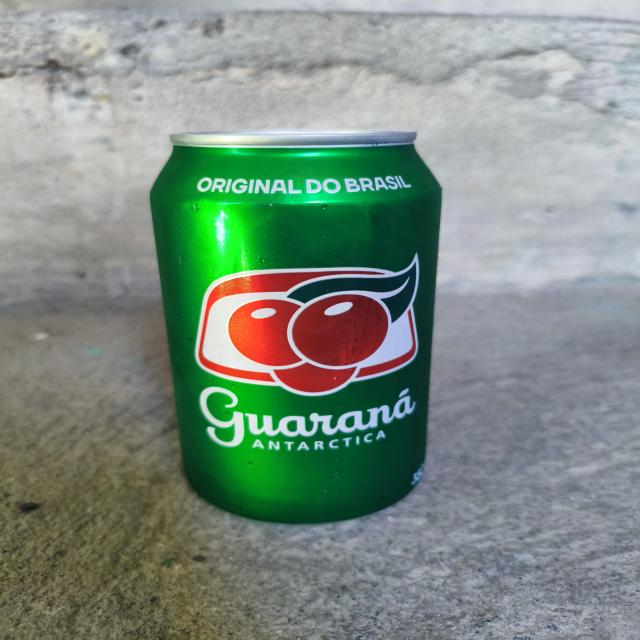Guarana: (125, 116, 468, 531)
